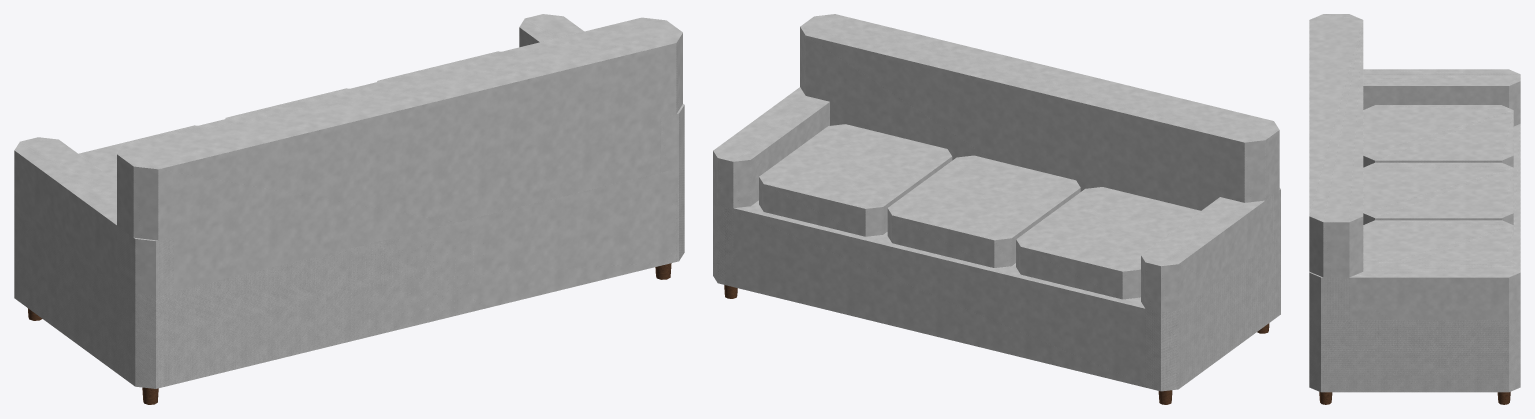
The model's file is sofa.obj.
The picture shows the model from 3 angles, left to right: view 1: azimuth 30°, elevation 25°; view 2: azimuth 150°, elevation 25°; view 3: azimuth 270°, elevation 25°; orthographic projection. The views are drawn at different scales.
Visible parts, largest first — view 1: sofa; view 2: sofa; view 3: sofa.
Part boxes in pixels (<box>): sofa: <box>14,14,684,404</box>; sofa: <box>713,14,1280,404</box>; sofa: <box>1309,14,1520,404</box>.
Bounding box in the file's own units: 2.1 × 0.88 × 0.9.
Materials: 2 (2 with a texture image).
